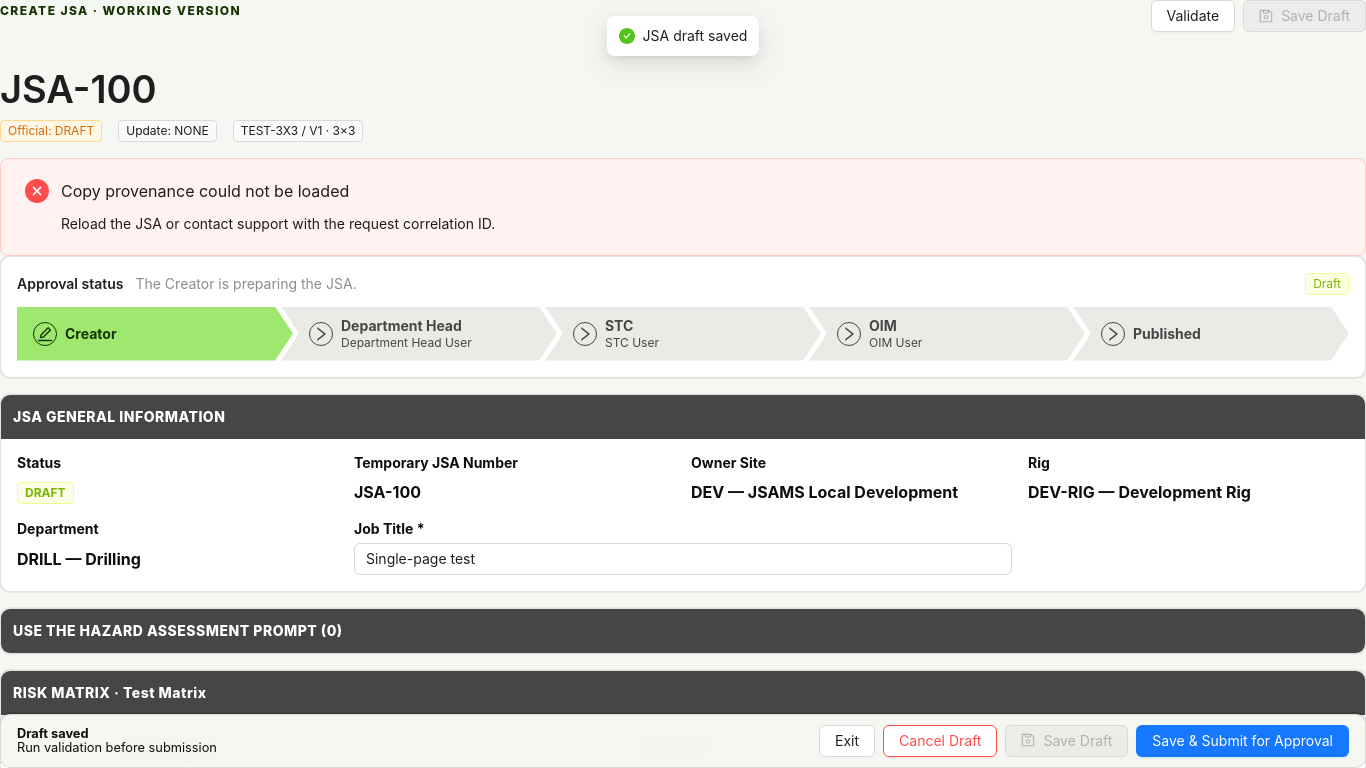
Test: JsaDraftEditor single-page worksheet › offers an explicit latest-version reload after a real concurrency conflict
This screenshot has width=1366, height=768.
In the field showing "Single-page test": (683, 559) [354,543,1012,575], type " updated"
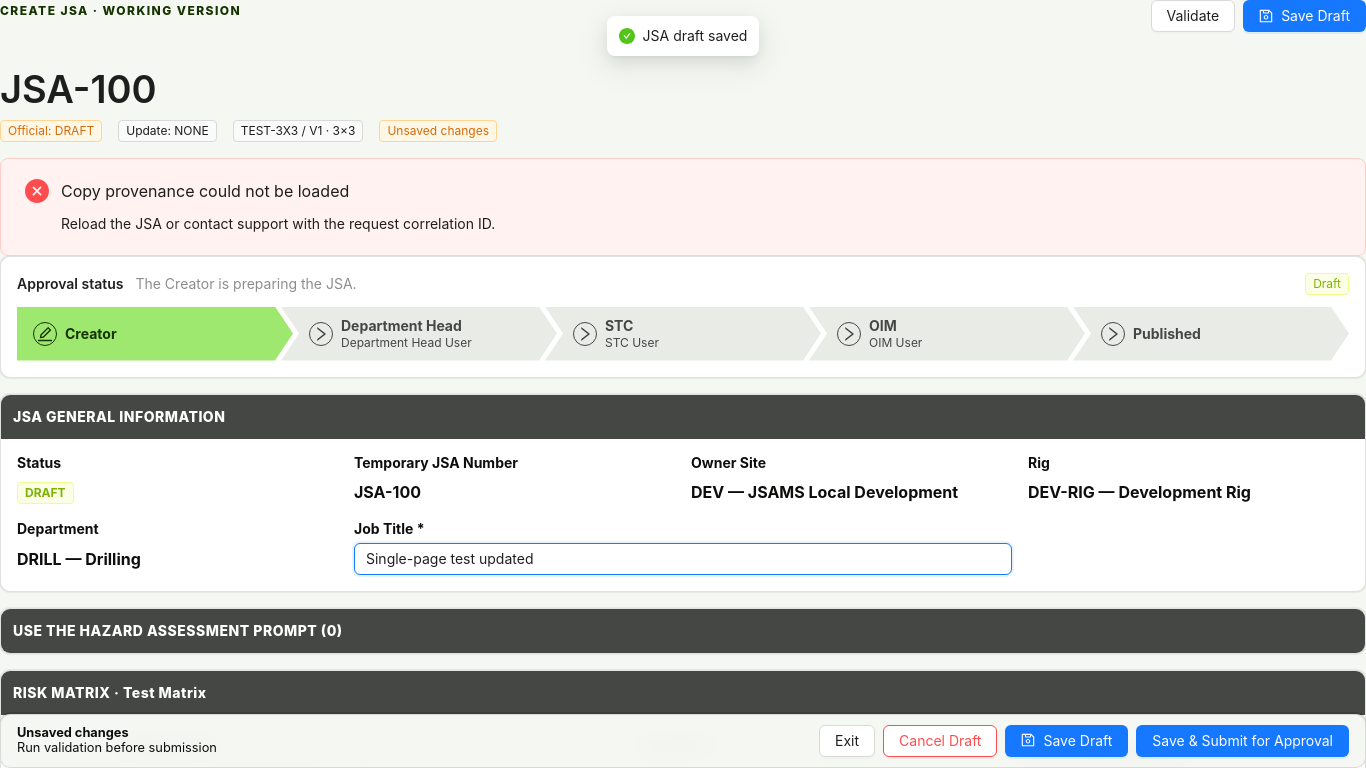
Click the button "Save Draft" in the row of "CREATE JSA · WORKING VERSION": (1305, 16) [1243,0,1365,32]
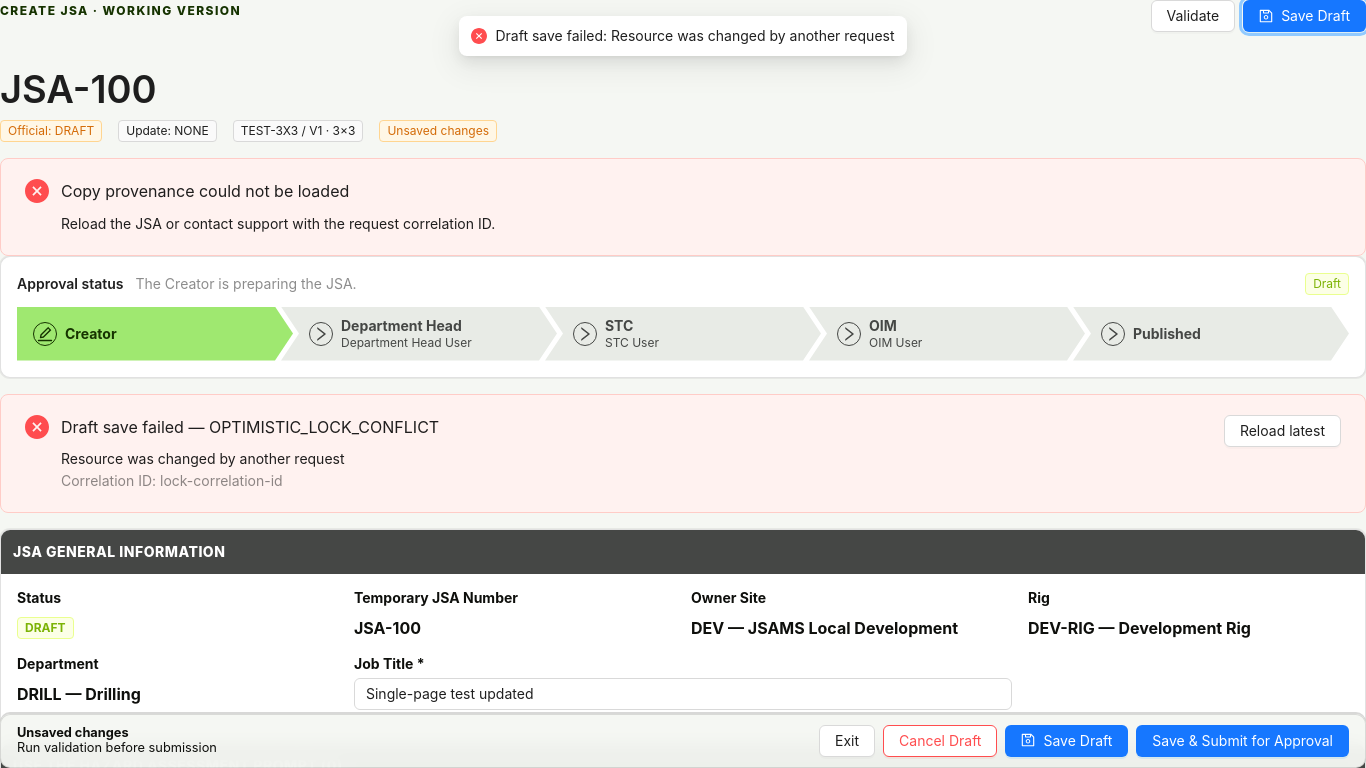
expect the button "Reload latest" is shown: met, box [1224,415,1341,447]
expect the text "Correlation ID: lock-correlation-id" is shown: met, box [61,472,283,489]
